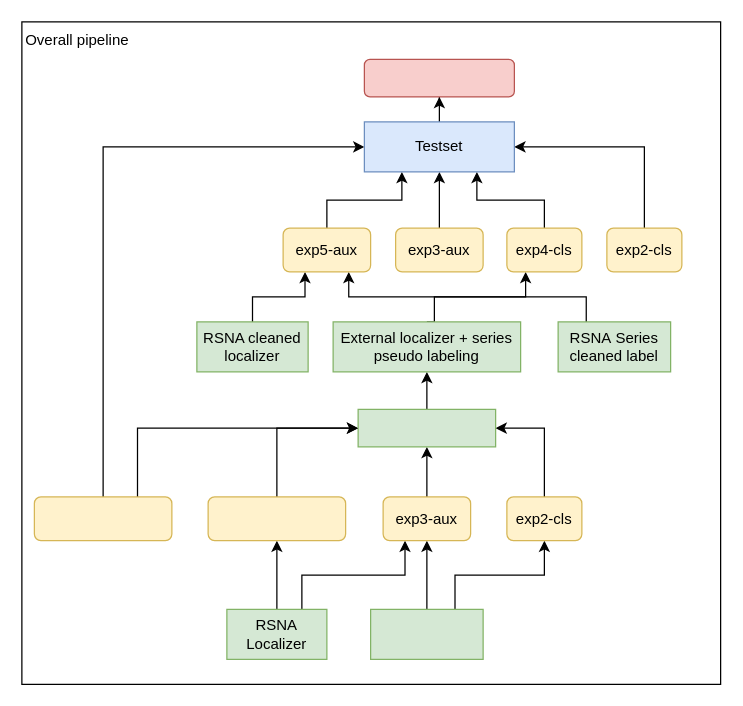
Image size: 743x706. Some labels were removed from this diagram. The shapes that lost their labels are listed below. From the top down, each one's centre as x and y in pixels, then its label:
At (438,77): "Submission".
At (426,427): "External dataset".
At (102,518): "exp1-brain det".
At (276,518): "exp0-Aneurysm det".
At (426,633): "RSNA Series label".
